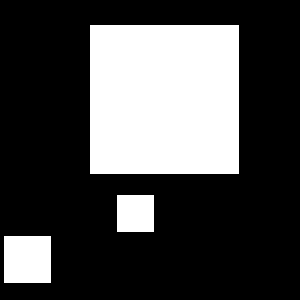circle: (90, 25, 239, 174), (4, 236, 51, 283), (117, 195, 154, 232)
